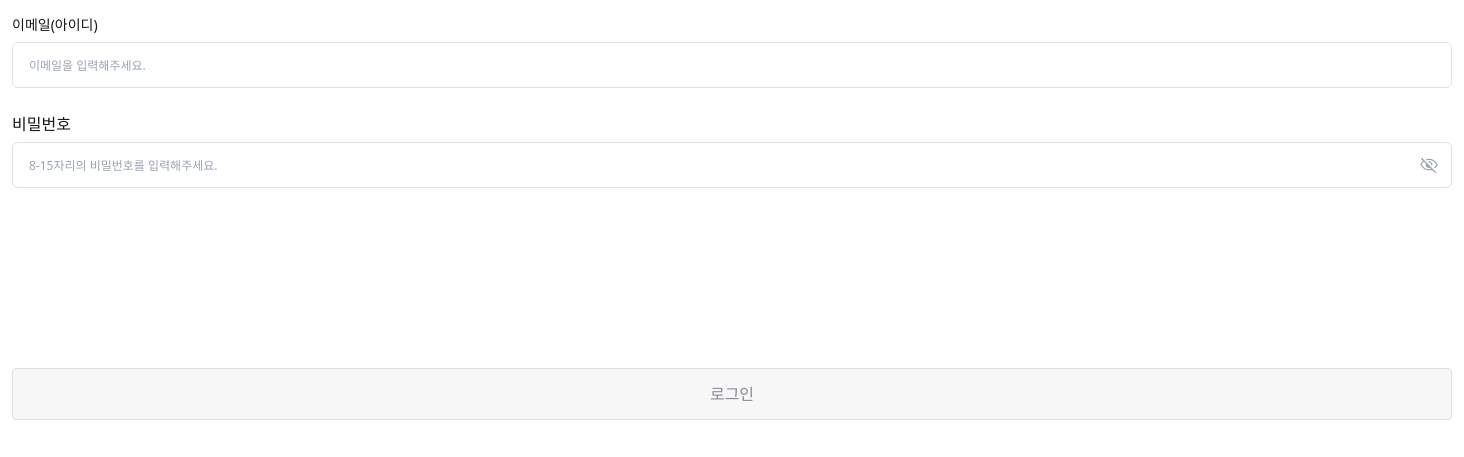
Scenario: LoginForm › 유효하지 않은 비밀번호 형식을 입력하면 에러 메시지가 표시되어야 합니다
This screenshot has width=1464, height=457.
In the password field with placeholder "8-15자리의 비밀번호를 입력해주세요.": (732, 165) [12,142,1452,188], type "short"
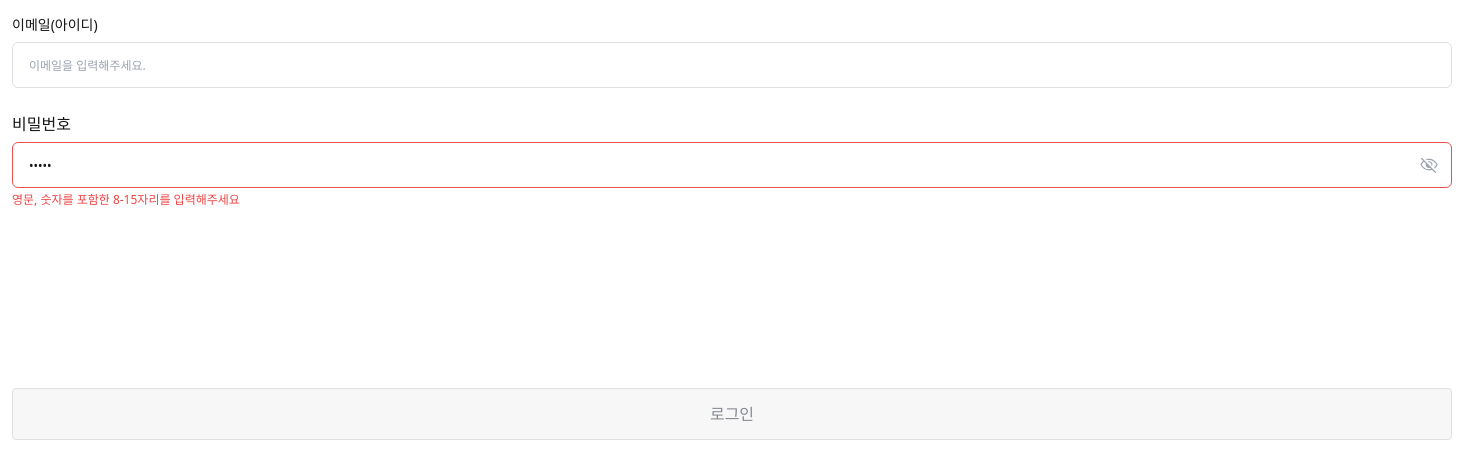
Expected: the text "영문, 숫자를 포함한 8-15자리를 입력해주세요" is shown, [12,191,240,208]
